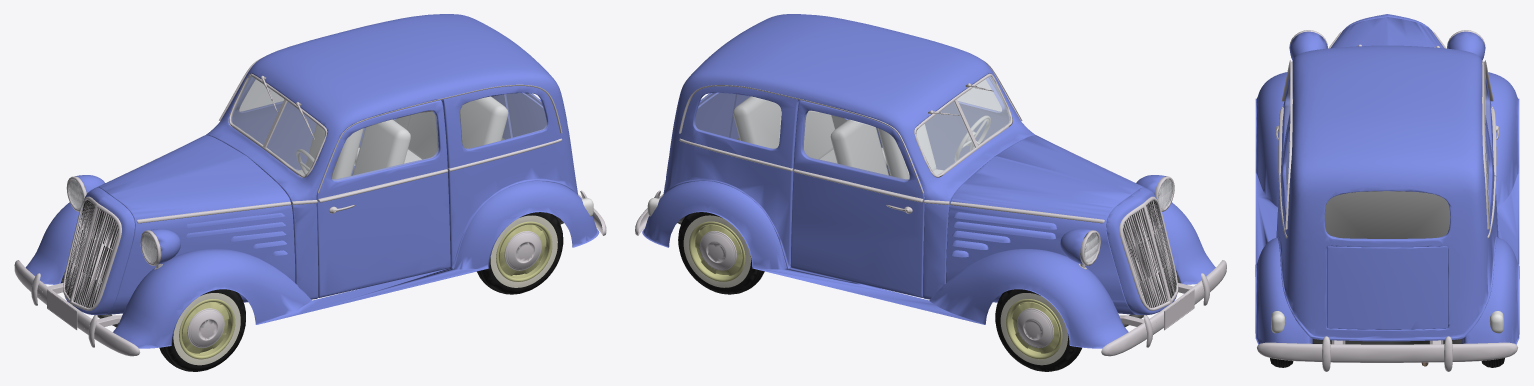
Rendered from vintage_car.glb.
The picture shows the model from 3 angles, left to right: view 1: azimuth 30°, elevation 25°; view 2: azimuth 150°, elevation 25°; view 3: azimuth 270°, elevation 25°; orthographic projection. The views are drawn at different scales.
Parts seen in each view (by area): view 1: 12_CarPaint, 26_WindowGlass, 27_WindowGlass, 01_Seats, 02_Seats, 38_Chrome, 35_Chrome, 19_RoughSteel, 39_Radiator, wheel_rl_40_WheelPaint, wheel_fl_40_WheelPaint, 44_CarPaint (+14 smaller); view 2: 12_CarPaint, 26_WindowGlass, 27_WindowGlass, 02_Seats, 01_Seats, 38_Chrome, 44_CarPaint, 35_Chrome, 19_RoughSteel, 39_Radiator, wheel_fr_40_WheelPaint, wheel_rr_40_WheelPaint (+14 smaller); view 3: 12_CarPaint, 01_Seats, 25_Chrome, 42_RoughSteel, 10_CarPaint, 19_RoughSteel, 26_WindowGlass, 32_CarBottom, 15_Seats, 00_Seats.
Part boxes in pixels (x1,y1,x2,y2): 12_CarPaint: (25,14,599,348); 26_WindowGlass: (332,93,546,180); 27_WindowGlass: (231,76,324,175); 01_Seats: (354,96,508,165); 02_Seats: (298,119,410,179); 38_Chrome: (64,200,118,308); 35_Chrome: (14,260,140,356); 19_RoughSteel: (123,138,562,223); 39_Radiator: (65,200,118,307); wheel_rl_40_WheelPaint: (496,221,552,281); wheel_fl_40_WheelPaint: (179,299,235,359); 44_CarPaint: (185,213,287,255); 12_CarPaint: (642,14,1215,348); 26_WindowGlass: (694,93,909,180); 27_WindowGlass: (916,76,1010,175); 02_Seats: (830,119,943,179); 01_Seats: (733,96,887,165); 38_Chrome: (1123,200,1176,307); 44_CarPaint: (951,212,1056,257); 35_Chrome: (1101,260,1226,356); 19_RoughSteel: (679,138,1128,223); 39_Radiator: (1123,200,1176,307); wheel_fr_40_WheelPaint: (1006,299,1062,359); wheel_rr_40_WheelPaint: (689,221,745,281); 12_CarPaint: (1255,14,1519,344); 01_Seats: (1324,191,1450,238); 25_Chrome: (1257,336,1517,371); 42_RoughSteel: (1281,60,1493,229); 10_CarPaint: (1289,31,1485,60); 19_RoughSteel: (1278,31,1496,238); 26_WindowGlass: (1285,84,1489,200); 32_CarBottom: (1312,339,1462,344); 15_Seats: (1489,311,1503,333); 00_Seats: (1271,311,1285,333).
Bounding box in the file's own units: 9.91 × 4.21 × 4.26.
